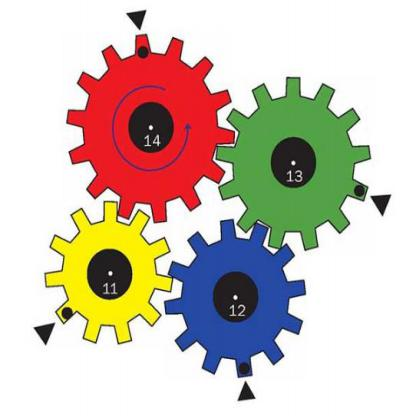FOD: (162, 217, 308, 381)
